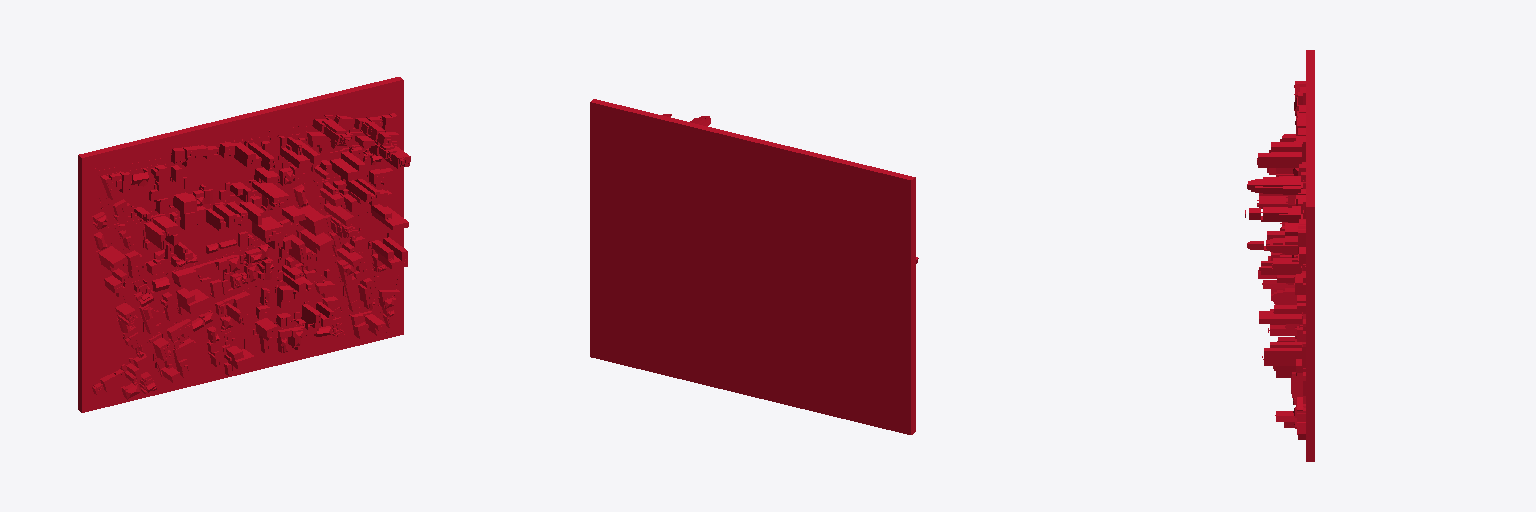
File: tinker.obj
3 views of the same model, side by side, from view 1: azimuth 30°, elevation 25°; view 2: azimuth 150°, elevation 25°; view 3: azimuth 270°, elevation 25° (orthographic).
Visible parts, largest first — view 1: obj_0; view 2: obj_0; view 3: obj_0.
Boxes of the visible parts, box(x1,y1,x2,y2) form: obj_0: box(78, 77, 410, 412); obj_0: box(590, 99, 918, 434); obj_0: box(1245, 50, 1314, 461).
Bounding box in the file's own units: 263 × 199 × 49.53.